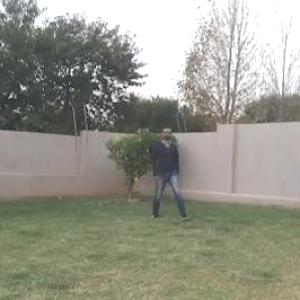follow: (152, 117, 180, 222)
